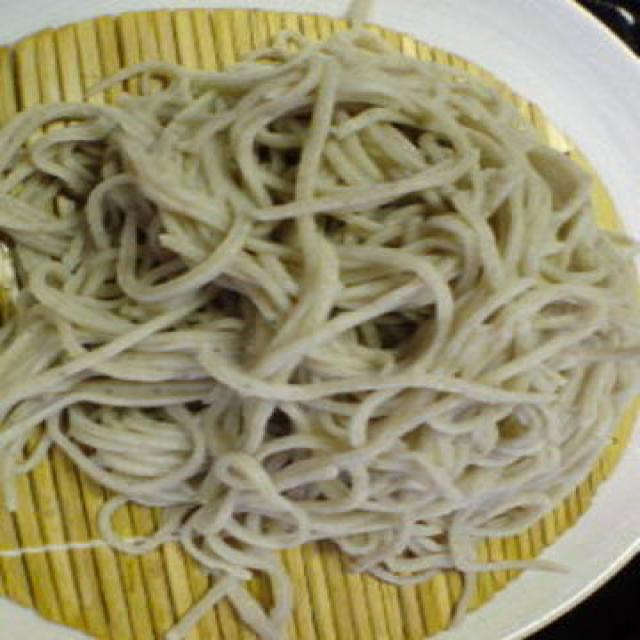面条主食: (0, 24, 604, 600)
